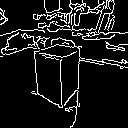cube: (27, 35, 88, 114)
